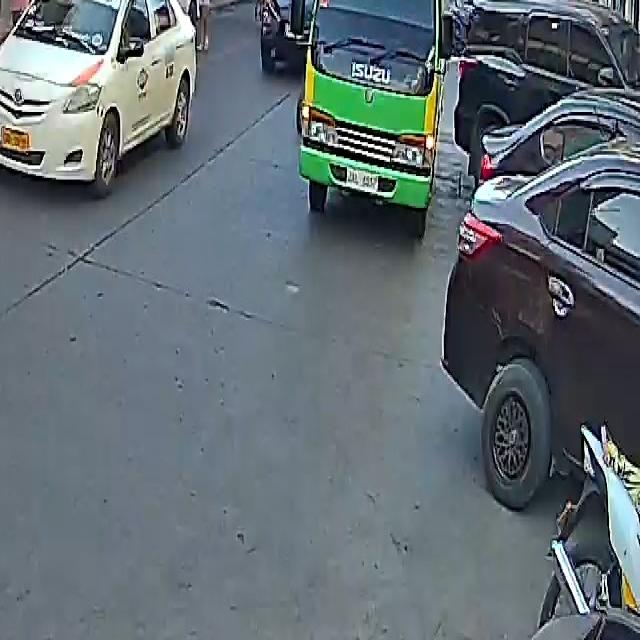car: (443, 149, 640, 518), (0, 0, 201, 190), (452, 0, 640, 183), (257, 0, 331, 75), (99, 0, 204, 28)
